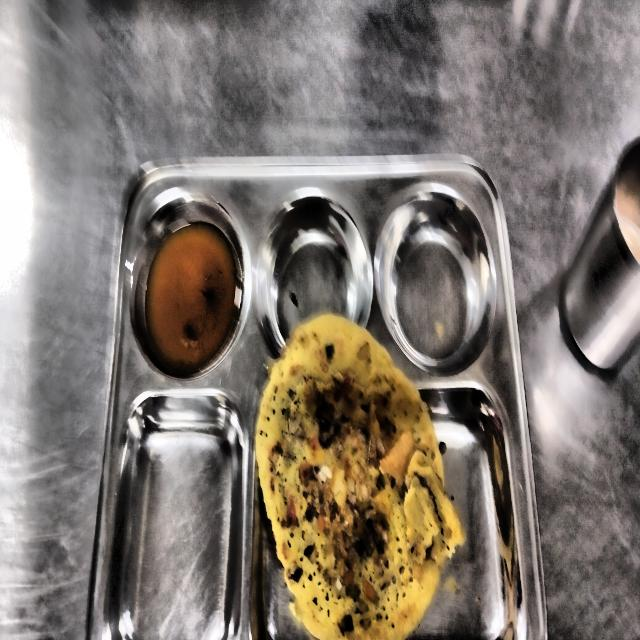Papad: (294, 315, 462, 633), (145, 223, 238, 374), (263, 314, 417, 400), (256, 419, 285, 528), (273, 529, 301, 577)
Roti: (256, 314, 465, 640)
